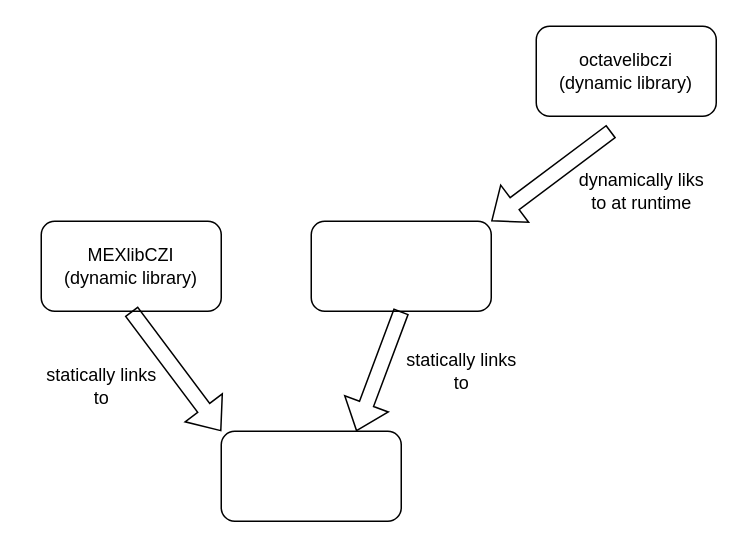
Some shapes in this 749 by 548 pixel diagram are drawn without their labels. The shapes that lost their labels are listed below. From the top down, each one's centre as x and y in pixels, then its label:
pixel 400 265: libmexlibczi (dynamic library)
pixel 310 475: lib (static library)
